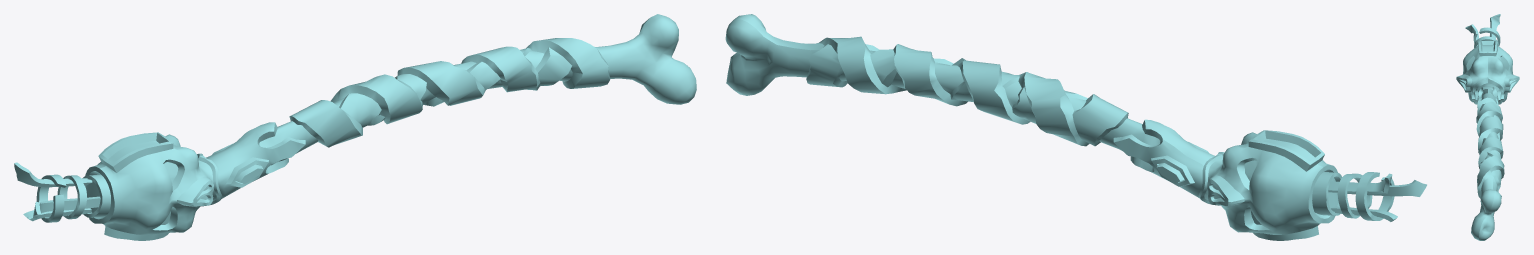
Rendered from SM_Undead_Scythe_4.fbx.
3 views of the same model, side by side, from view 1: azimuth 30°, elevation 25°; view 2: azimuth 150°, elevation 25°; view 3: azimuth 270°, elevation 25° (orthographic). The views are drawn at different scales.
Parts seen in each view (by area): view 1: SM_Undead_Scythe_4; view 2: SM_Undead_Scythe_4; view 3: SM_Undead_Scythe_4.
Part boxes in pixels (x1,y1,x2,y2): SM_Undead_Scythe_4: (14, 14, 696, 240); SM_Undead_Scythe_4: (725, 14, 1426, 240); SM_Undead_Scythe_4: (1456, 14, 1519, 240).
Size of the model in its own units: 1.02 by 0.147 by 0.1486.
